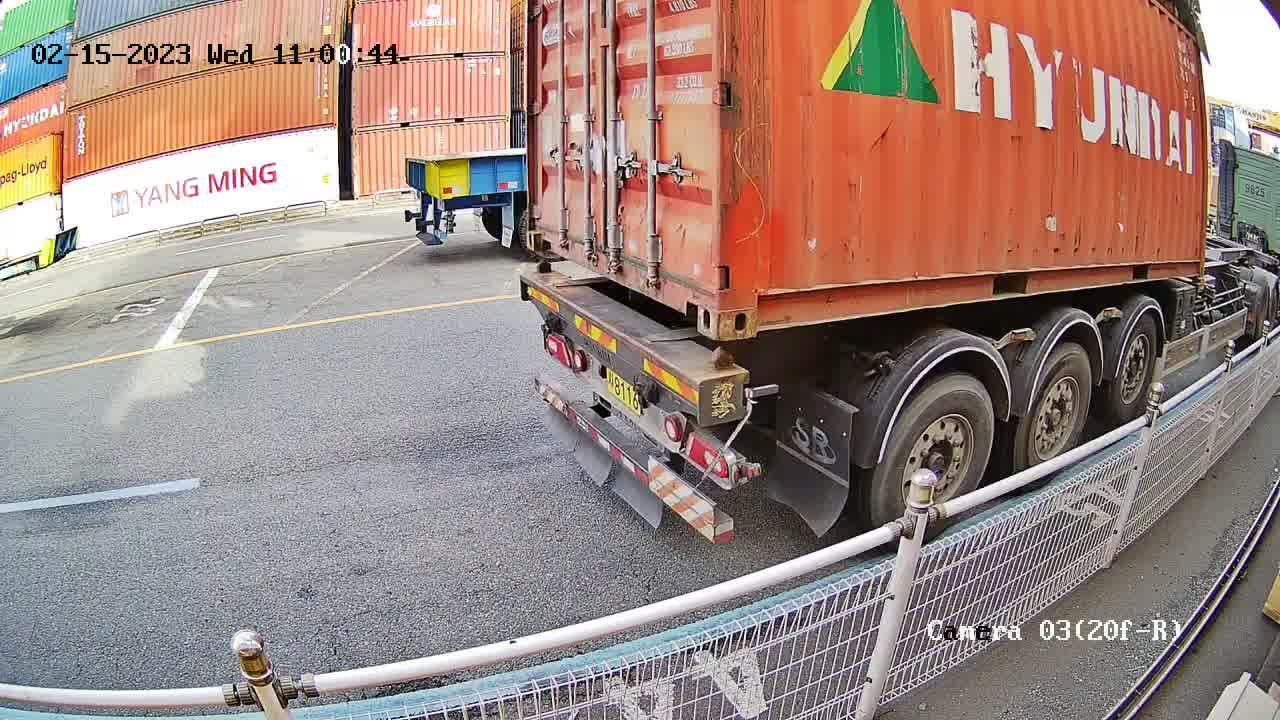Chassis: (519, 276, 710, 420)
Cone: (704, 345, 740, 419), (525, 259, 552, 306)
Hole_L: (717, 264, 797, 338), (525, 212, 556, 255)
Hole_R: (675, 259, 720, 343)
Tire: (872, 377, 997, 515), (1016, 351, 1091, 470), (1112, 318, 1160, 420)
